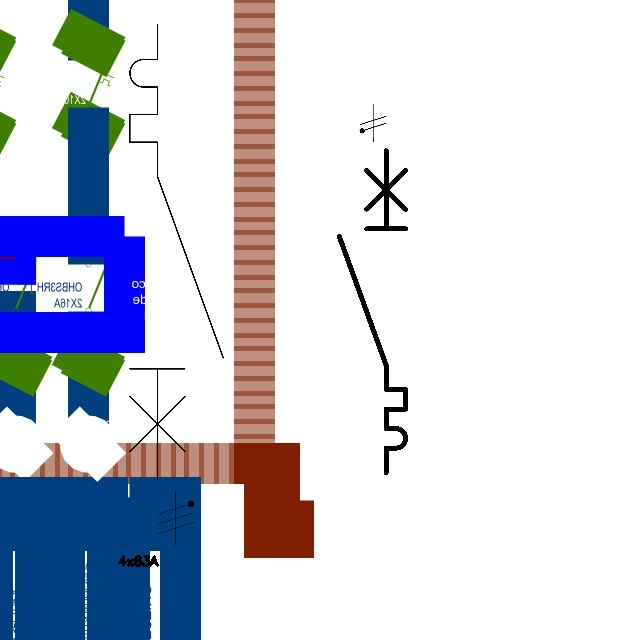interruptor_termomagnetico: (118, 13, 235, 491), (331, 142, 414, 480)
